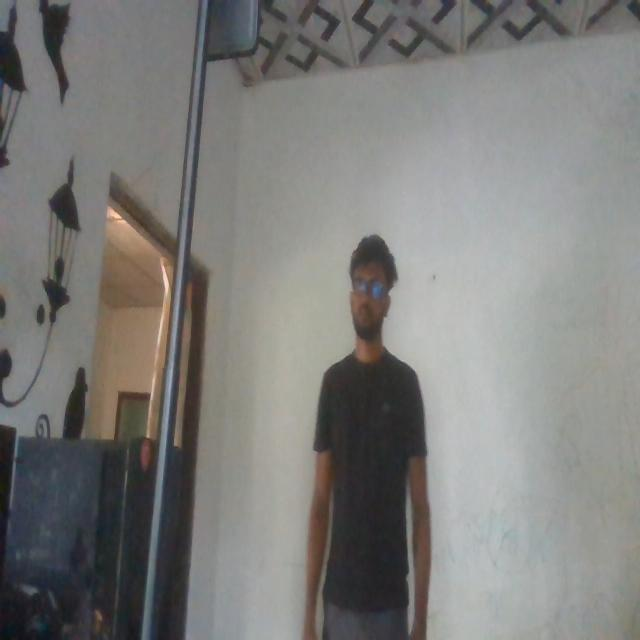Person: (290, 214, 442, 640)
